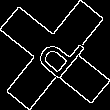P_SW: (25, 24, 85, 86)
